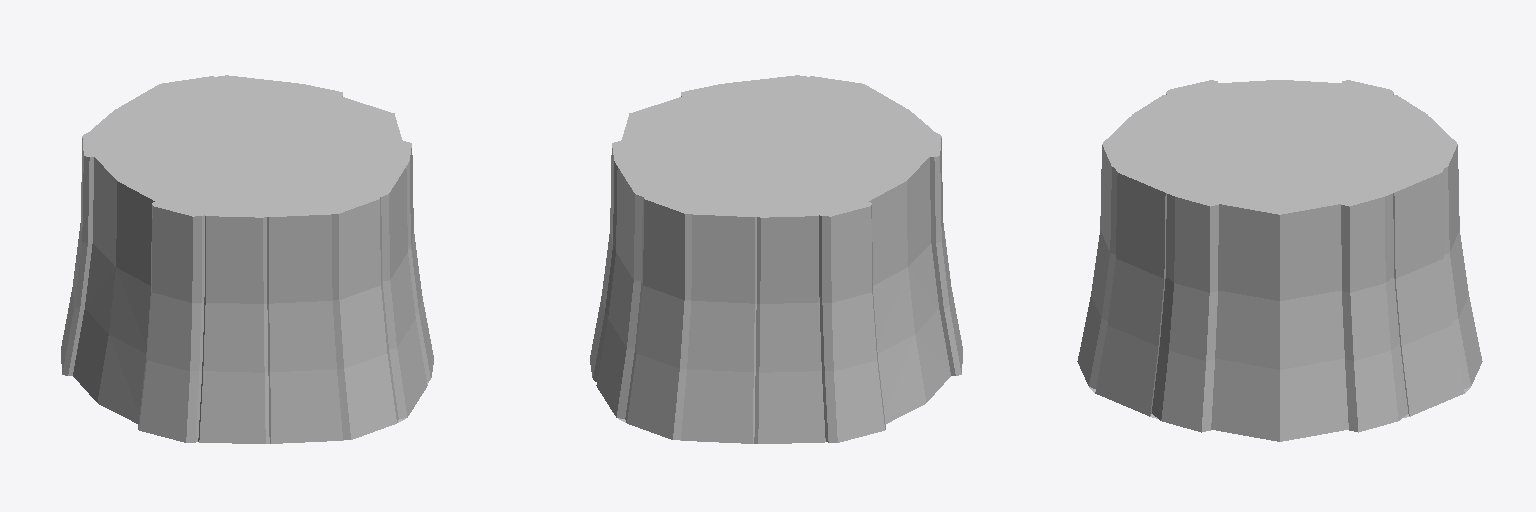
The model's file is uploads_files_3024034_tree+stump+obj.obj.
The picture shows the model from 3 angles: view 1: azimuth 30°, elevation 25°; view 2: azimuth 150°, elevation 25°; view 3: azimuth 270°, elevation 25°; orthographic projection.
Parts seen in each view (by area): view 1: tree_stump_Mesh; view 2: tree_stump_Mesh; view 3: tree_stump_Mesh.
Part boxes in pixels (bbox=[...]): tree_stump_Mesh: bbox=[61, 75, 433, 443]; tree_stump_Mesh: bbox=[590, 75, 962, 443]; tree_stump_Mesh: bbox=[1077, 80, 1482, 441].
Size of the model in its own units: 3.84 by 2.52 by 4.25.